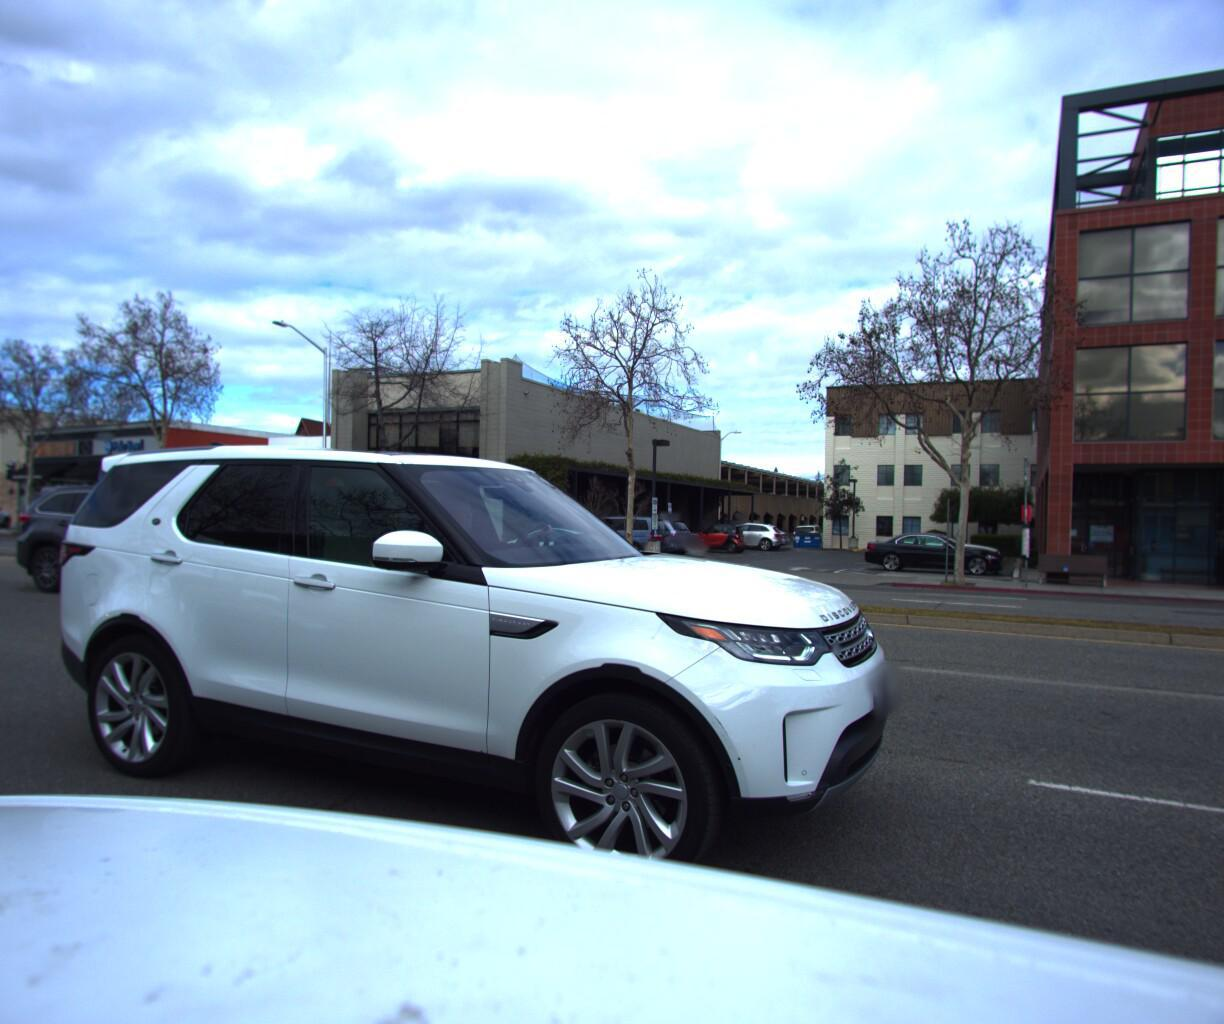car: (7, 414, 898, 967), (0, 476, 299, 605), (478, 517, 629, 570), (856, 520, 1008, 571), (545, 508, 681, 557), (575, 509, 701, 556), (600, 517, 710, 554), (0, 494, 16, 527)
